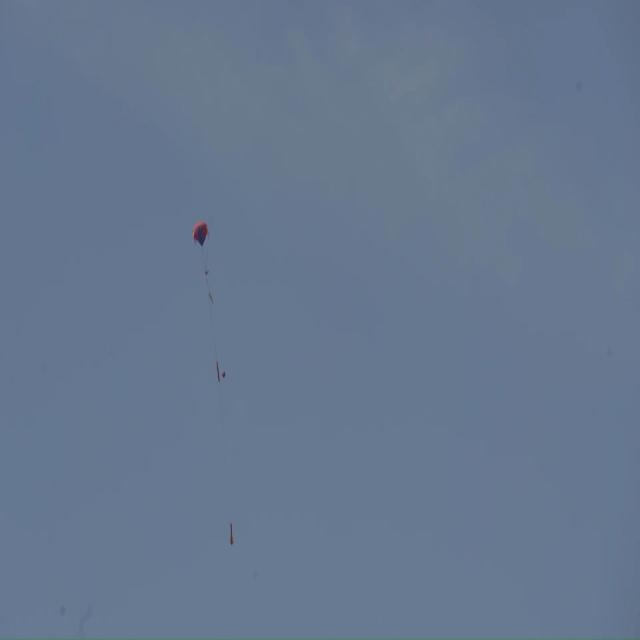Rocket: (229, 523, 234, 545)
